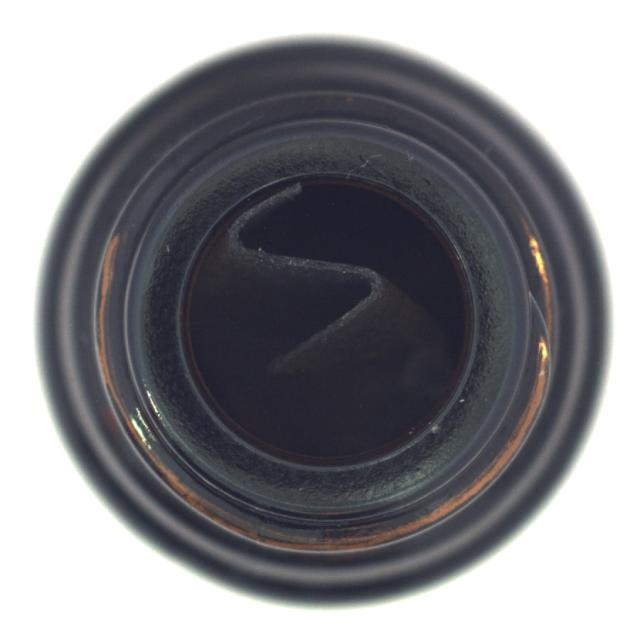bad-contamination: (34, 33, 615, 610)
